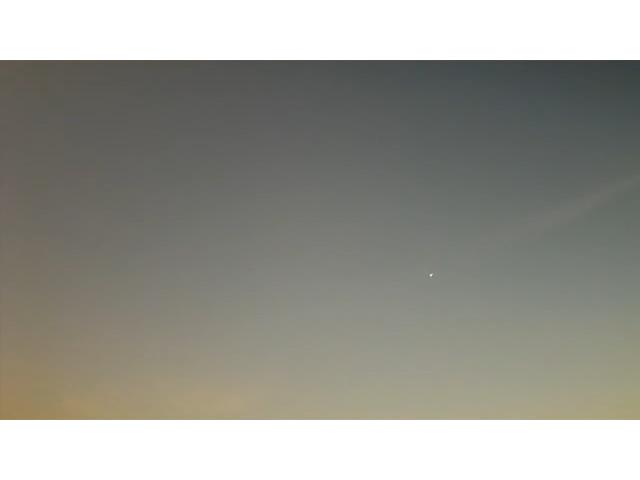Anti-Drone: (421, 268, 443, 284)
